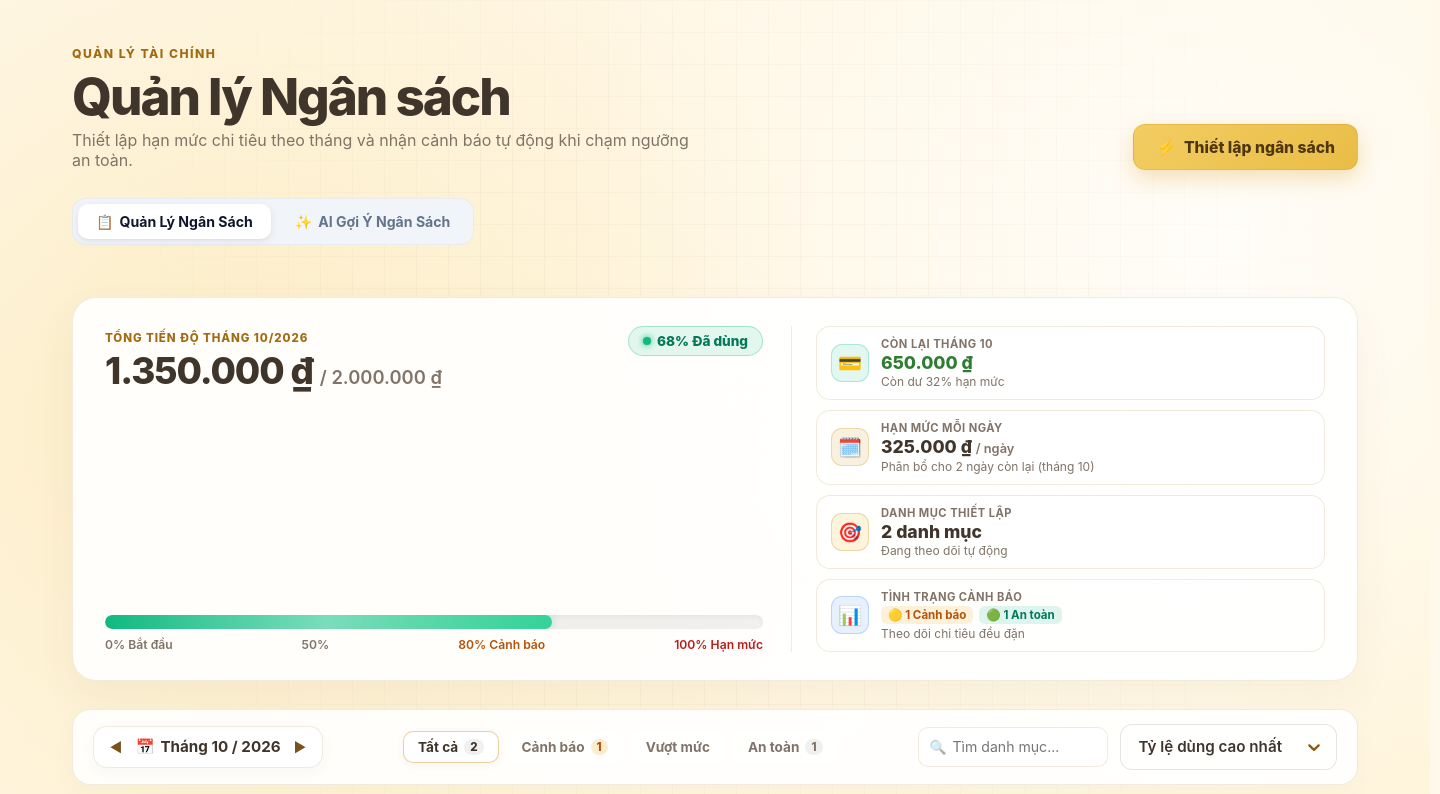
Test: Budgets Page › opens the manual budget modal from the AI suggestion tab
The width and height of the screenshot is (1440, 794).
Click the tab "✨ AI Gợi Ý Ngân Sách": (373, 222) [277,204,468,239]
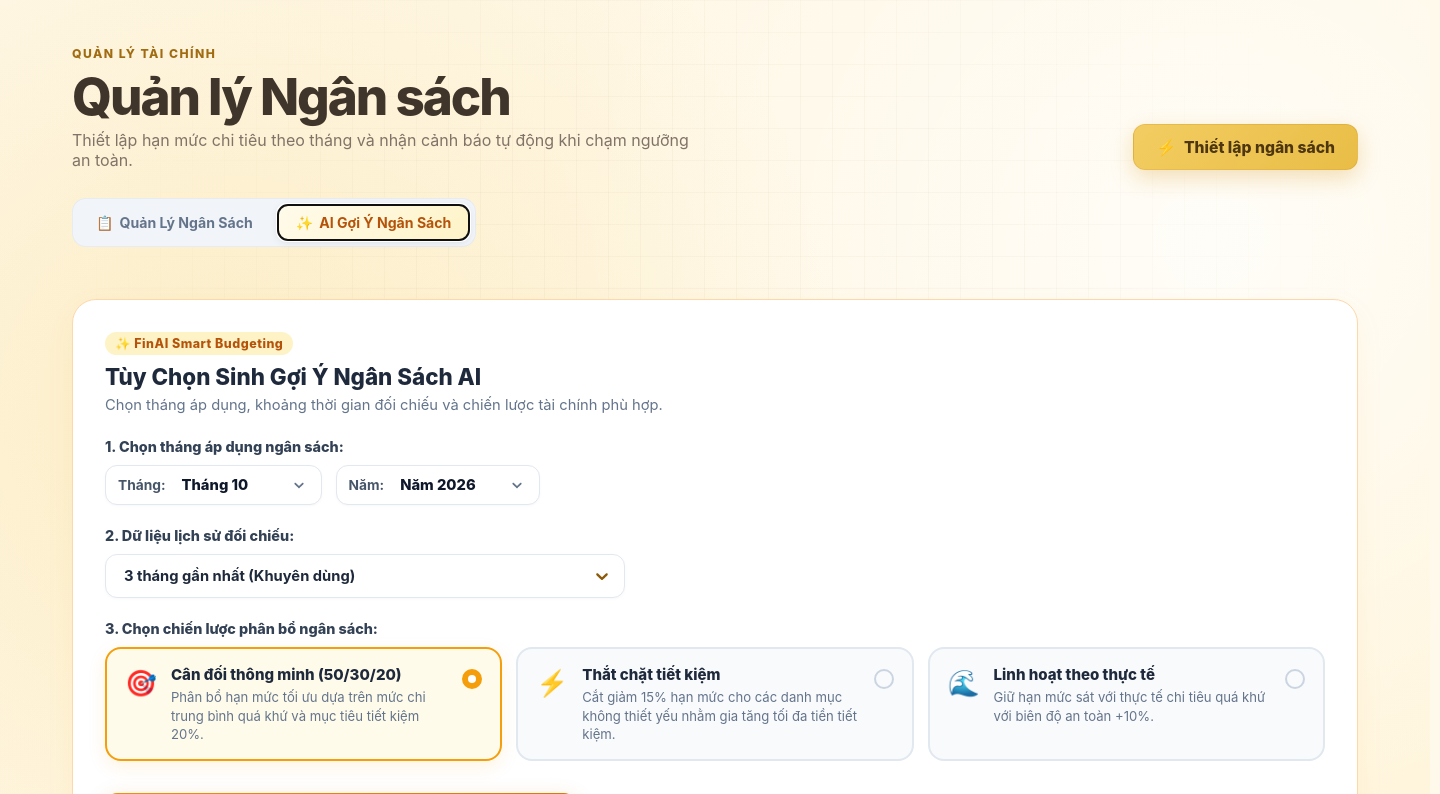
Expected: the tab "✨ AI Gợi Ý Ngân Sách" is selected, [277,204,470,241]
Click the button "⚡ Thiết lập ngân sách": (1246, 147) [1134,124,1358,170]
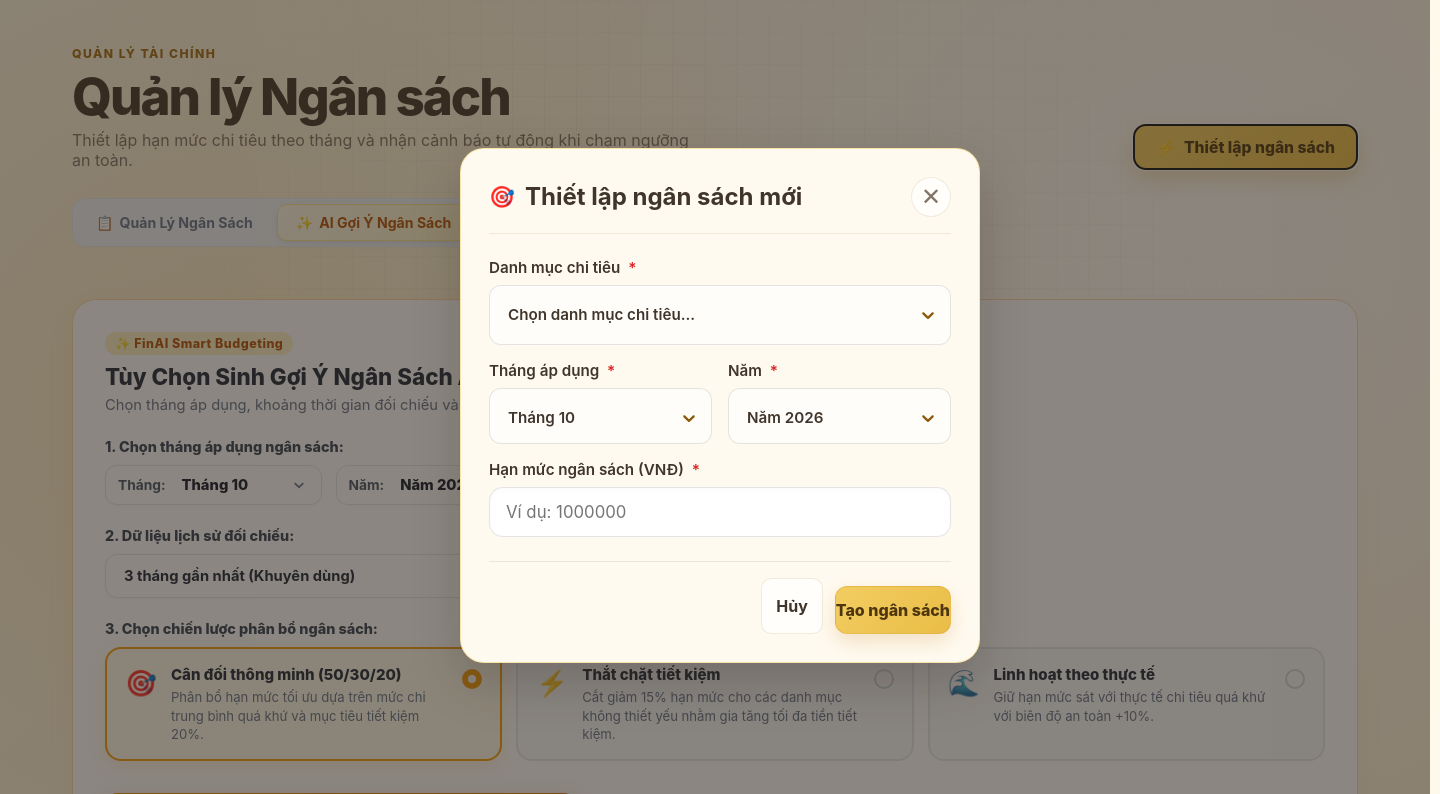
Expected: the dialog "Thiết lập ngân sách mới" is shown, [460,148,980,662]
